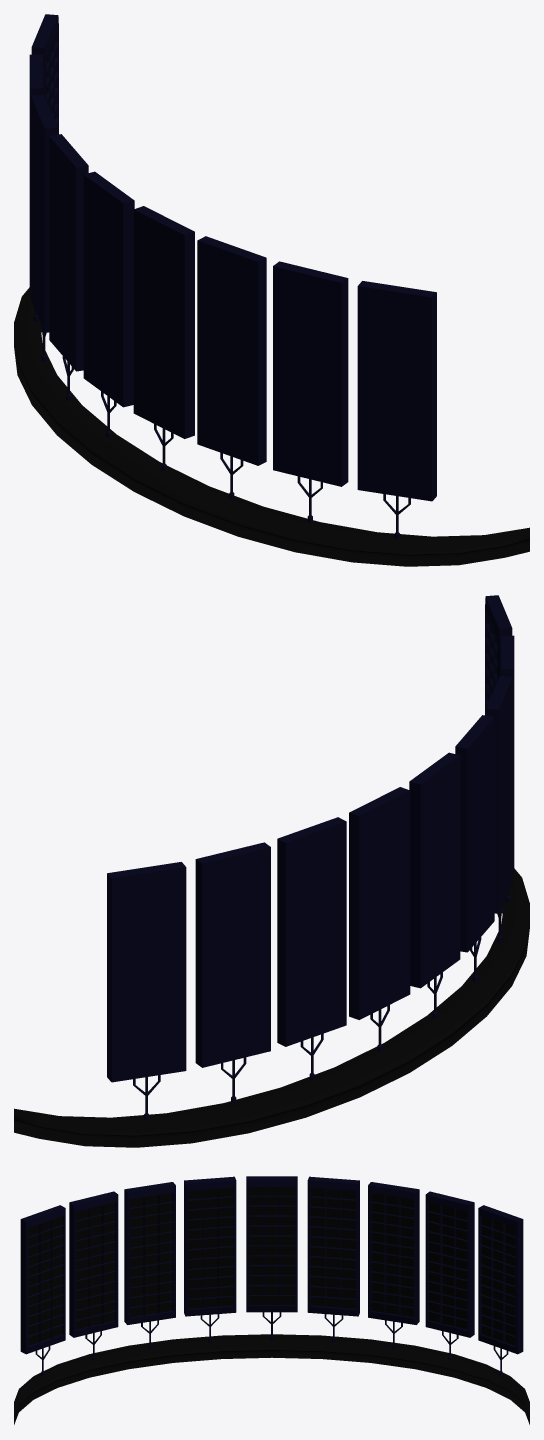
Rendered from Bunker.fbx.
3 views of the same model, one above another, from view 1: azimuth 30°, elevation 25°; view 2: azimuth 150°, elevation 25°; view 3: azimuth 270°, elevation 25° (orthographic). The views are drawn at different scales.
Parts seen in each view (by area): view 1: Monitors L, Base, Monitors R, Monitor; view 2: Monitors R, Base, Monitors L, Monitor; view 3: Monitors L, Monitors R, Base, Screen 5, Screen 4, Screen 6, Screen 3, Screen 7, Screen 2, Screen 8, Screen 1, Screen 9 (+1 smaller).
Part boxes in pixels (bbox=[...]): Monitors L: bbox=[133, 206, 436, 539]; Base: bbox=[14, 287, 529, 566]; Monitors R: bbox=[29, 14, 88, 400]; Monitor: bbox=[83, 171, 134, 437]; Monitors R: bbox=[107, 787, 410, 1120]; Base: bbox=[14, 868, 529, 1147]; Monitors L: bbox=[455, 595, 514, 981]; Monitor: bbox=[409, 752, 460, 1018]; Monitors L: bbox=[20, 1176, 236, 1375]; Monitors R: bbox=[307, 1176, 523, 1375]; Base: bbox=[14, 1334, 529, 1424]; Screen 5: bbox=[249, 1187, 294, 1304]; Screen 4: bbox=[188, 1187, 232, 1308]; Screen 6: bbox=[311, 1187, 355, 1308]; Screen 3: bbox=[130, 1193, 172, 1316]; Screen 7: bbox=[371, 1193, 413, 1316]; Screen 2: bbox=[76, 1202, 114, 1329]; Screen 8: bbox=[429, 1202, 467, 1329]; Screen 1: bbox=[28, 1216, 62, 1345]; Screen 9: bbox=[481, 1216, 515, 1345].
Size of the model in its own units: 2091 by 2275 by 6000.
